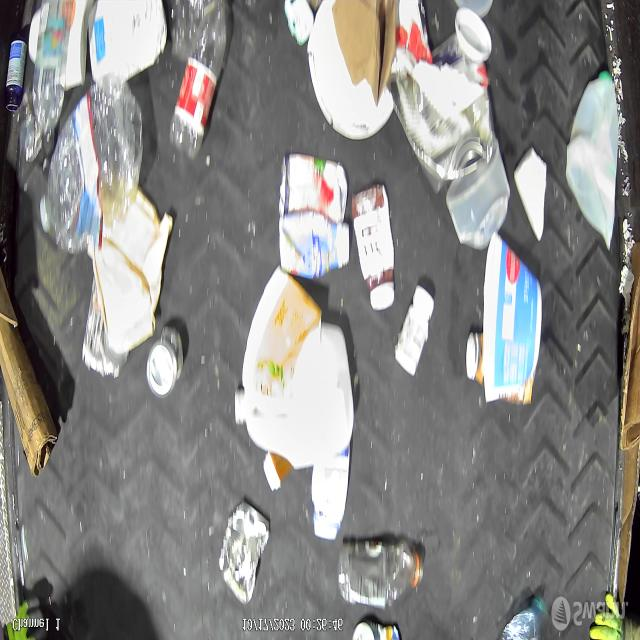can: (394, 74, 492, 185), (219, 500, 270, 606), (82, 303, 120, 379), (145, 328, 185, 399)
milk_jug: (234, 317, 355, 471), (565, 70, 619, 250)
non_white_jug: (93, 186, 162, 354), (92, 0, 166, 84)
plastic_bottle: (40, 82, 142, 253), (171, 4, 228, 161), (338, 538, 424, 609), (33, 0, 72, 156), (500, 595, 546, 640)
